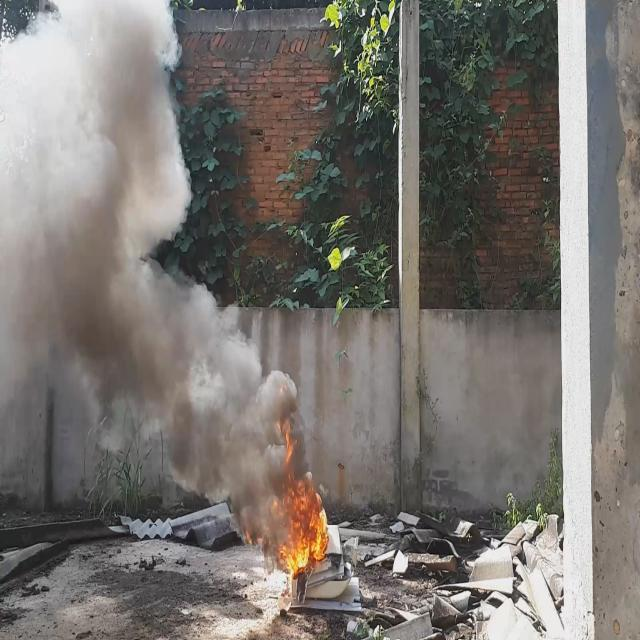Fire: (276, 468, 330, 580)
Smoke: (0, 0, 298, 569)
